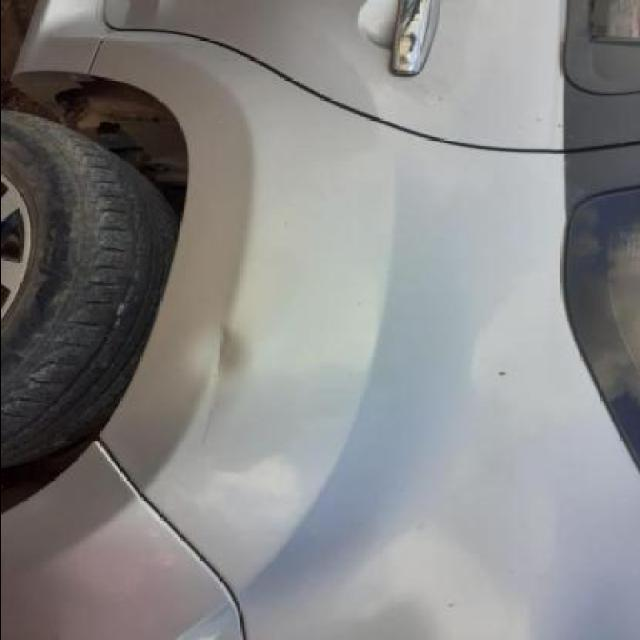quaterpanel-dent: (113, 142, 532, 633)
